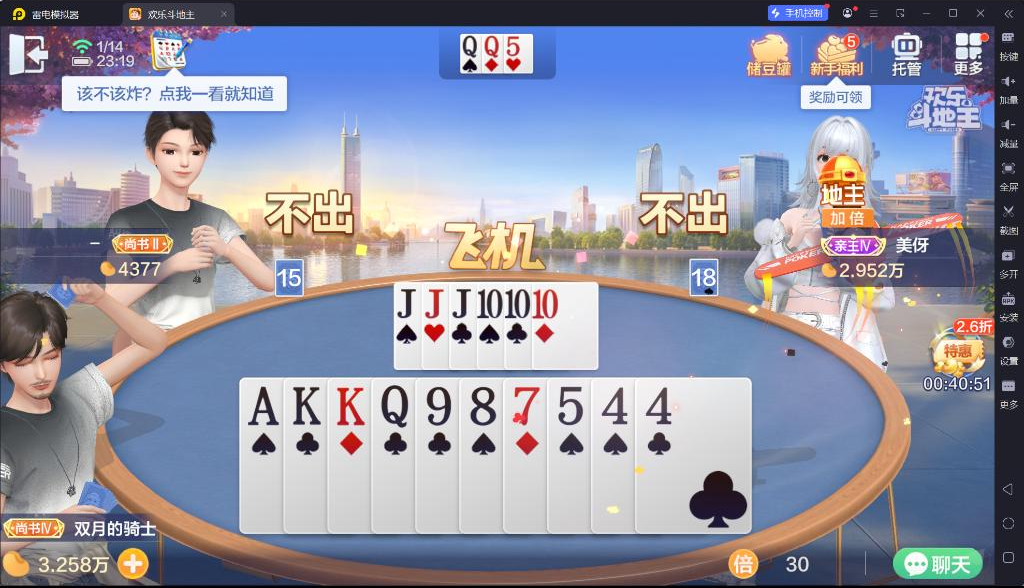A: (244, 382, 279, 429)
J: (449, 283, 472, 320), (424, 285, 447, 320), (394, 287, 418, 319)
K: (291, 381, 323, 429), (333, 384, 367, 428)
Q: (378, 383, 412, 429), (483, 35, 501, 58), (462, 35, 479, 59)
eight: (468, 383, 498, 429)
five: (554, 383, 586, 427), (505, 34, 522, 57)
four: (643, 383, 676, 428), (598, 384, 629, 427)
nine: (424, 385, 454, 427)
seven: (508, 385, 542, 427)
ten: (531, 285, 559, 320), (504, 287, 532, 321), (477, 287, 504, 321)
